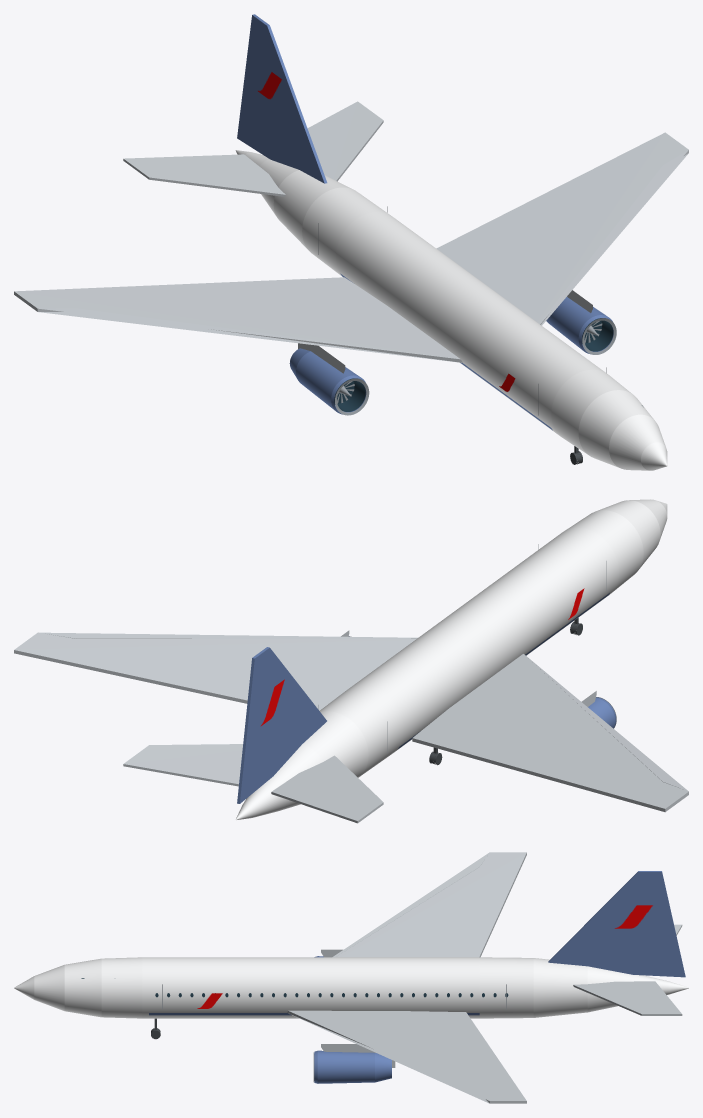
The model's file is b767-AFR-v4.gltf.
3 views of the same model, one above another, from view 1: azimuth 30°, elevation 25°; view 2: azimuth 150°, elevation 25°; view 3: azimuth 270°, elevation 25° (orthographic). The views are drawn at different scales.
Visible parts, largest first — view 1: object 1; view 2: object 1; view 3: object 1.
Part boxes in pixels (<box>): object 1: <box>14,14,688,470</box>; object 1: <box>14,499,688,823</box>; object 1: <box>14,852,688,1103</box>.
Bounding box in the file's own units: 48 × 14.98 × 55.
8 materials, 1 textured.
